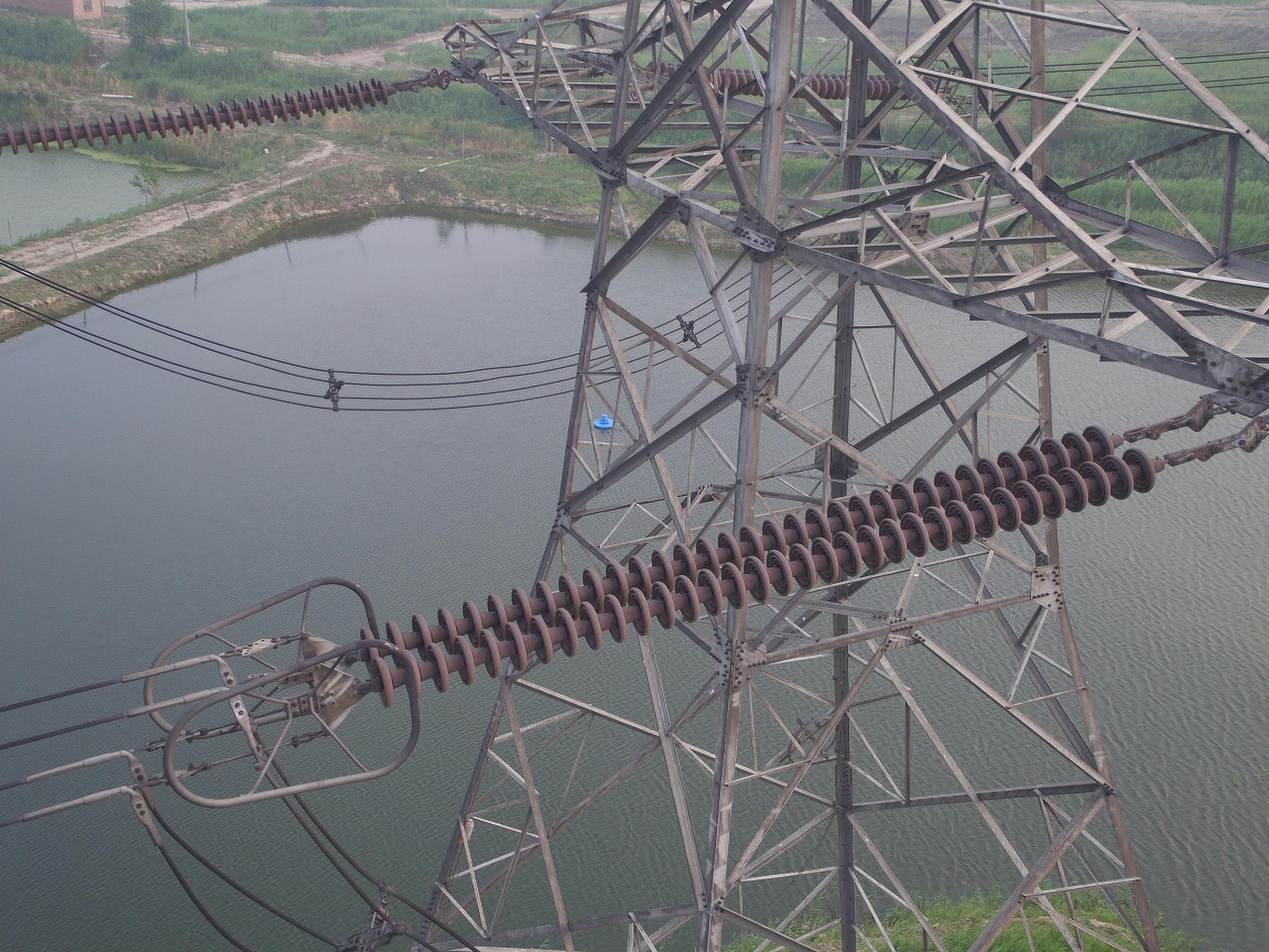insulator: (353, 421, 1159, 712), (1, 75, 392, 160), (644, 55, 892, 104)
